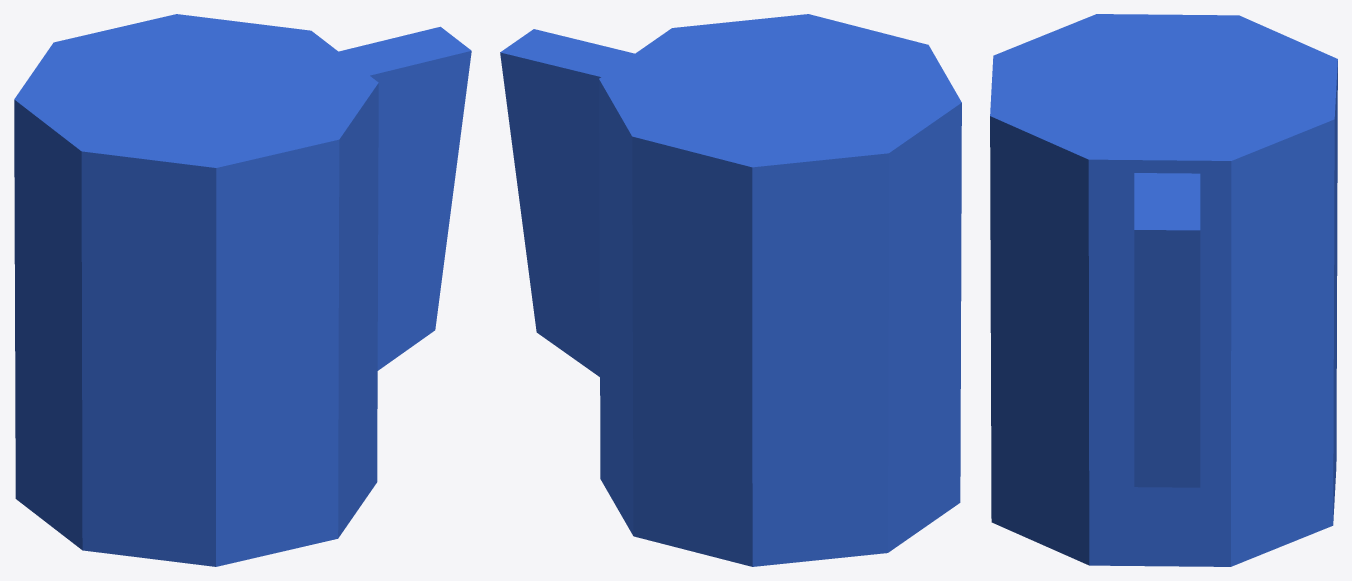
Rendered from Collision_Mug.fbx.
3 views of the same model, side by side, from view 1: azimuth 30°, elevation 25°; view 2: azimuth 150°, elevation 25°; view 3: azimuth 270°, elevation 25° (orthographic).
Visible parts, largest first — view 1: UCX_Mug_1, UCX_Mug_2; view 2: UCX_Mug_1, UCX_Mug_2; view 3: UCX_Mug_1, UCX_Mug_2.
Part boxes in pixels (x1,y1,x2,y2): UCX_Mug_1: (14,14,378,566); UCX_Mug_2: (338,26,471,370); UCX_Mug_1: (599,14,961,566); UCX_Mug_2: (500,29,634,376); UCX_Mug_1: (990,14,1337,566); UCX_Mug_2: (1134,173,1200,487).
Bounding box in the file's own units: 19.14 × 17.82 × 13.82.
